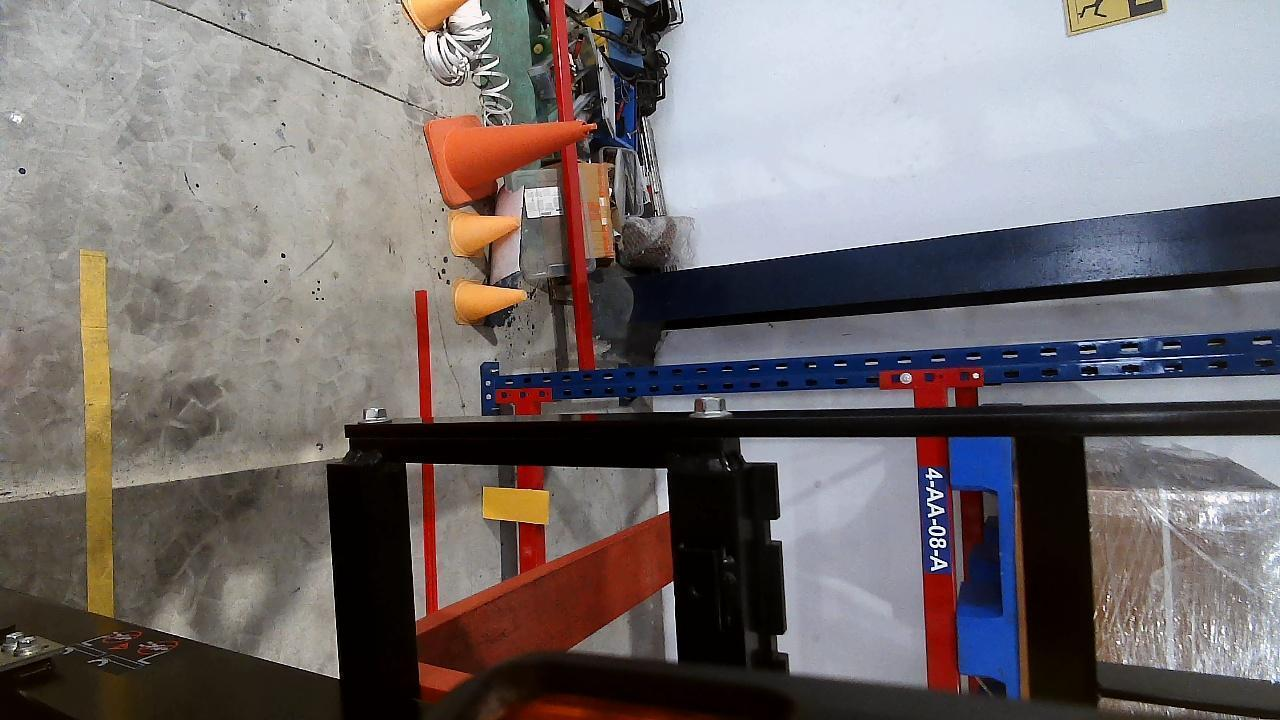red_line: (413, 291, 438, 612)
yellow_line: (79, 249, 113, 617)
